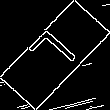L_SE: (25, 26, 85, 84)
